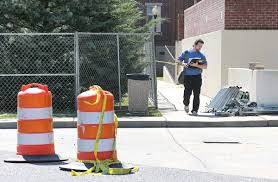barrel: (75, 86, 120, 160), (16, 84, 55, 156)
